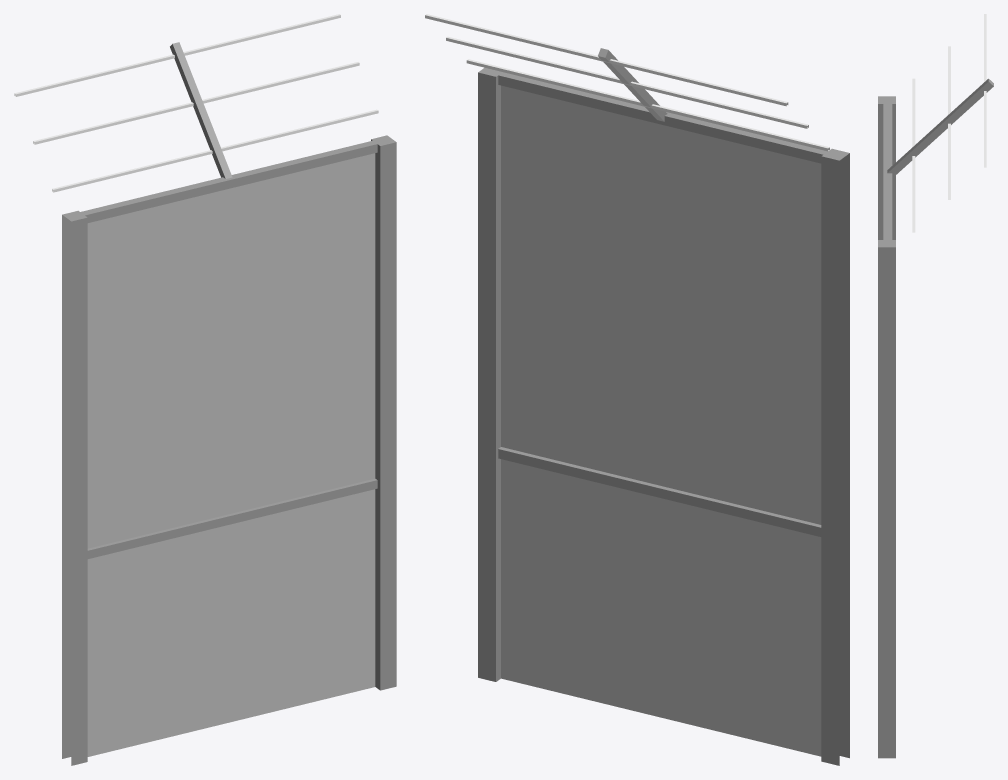
3 views of the same model, side by side, from view 1: azimuth 30°, elevation 25°; view 2: azimuth 150°, elevation 25°; view 3: azimuth 270°, elevation 25° (orthographic). The views are drawn at different scales.
Parts seen in each view (by area): view 1: SM_Grid_200; view 2: SM_Grid_200; view 3: SM_Grid_200.
Boxes of the visible parts, box(x1,y1,x2,y2) form: SM_Grid_200: box(14, 14, 396, 765); SM_Grid_200: box(425, 14, 849, 765); SM_Grid_200: box(878, 14, 993, 758).
Size of the model in its own units: 200 by 64.83 by 377.
